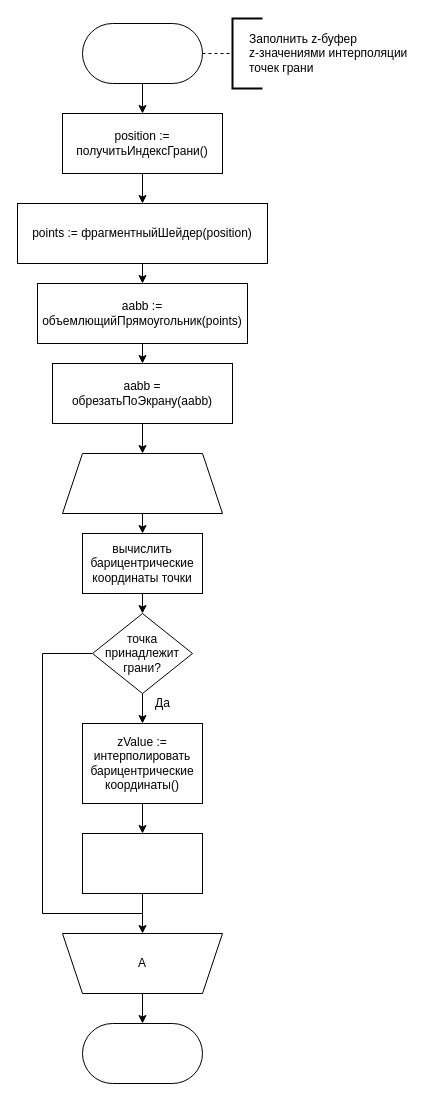
Some shapes in this 445 by 1101 pixel diagram are drawn without their labels. The box of each missing label's shape, as (x1, y1, x2, y2) in pixels:
A: Для точки (x,y) из aabb: (62, 452, 222, 514)
atomicCas(x, y, zValue): (82, 832, 202, 894)
Конец: (82, 1022, 202, 1084)
Начало: (82, 22, 202, 84)
